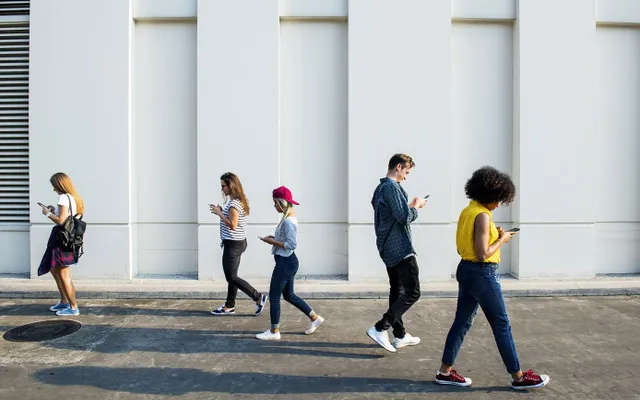human: (436, 166, 545, 389), (363, 150, 429, 353), (257, 184, 328, 345), (208, 172, 268, 318), (36, 172, 86, 316)
